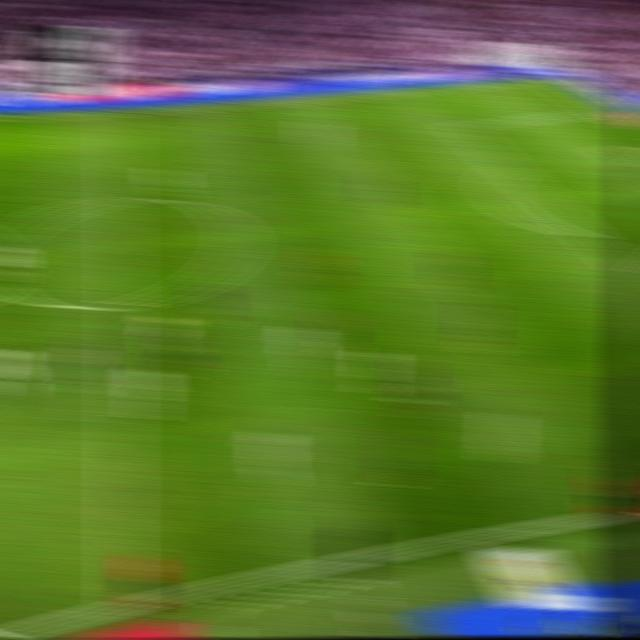bigarea_top_inner: (447, 118, 474, 134)
bigarea_top_outter: (587, 104, 614, 117)
bottom_arc_area_intersection: (572, 225, 601, 243)
corner: (530, 73, 558, 84)
halfcircle_bottom: (105, 290, 137, 319)
halfcircle_top: (104, 187, 136, 212)
midline_bottom_intersection: (103, 589, 138, 618)
midline_top_intersection: (105, 106, 134, 122)
smallarea_top_inner: (596, 143, 623, 156)
top_arc_area_intersection: (496, 160, 523, 176)
